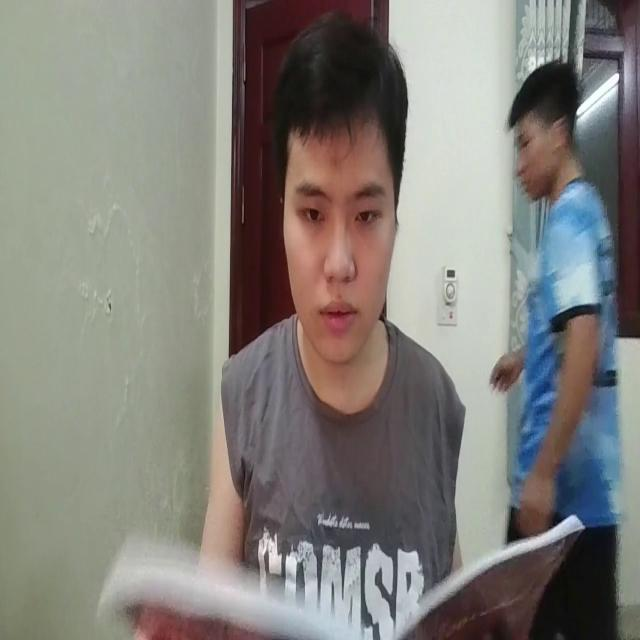book: (102, 494, 599, 640)
extra_person: (483, 62, 626, 640)
student: (179, 17, 474, 640)
